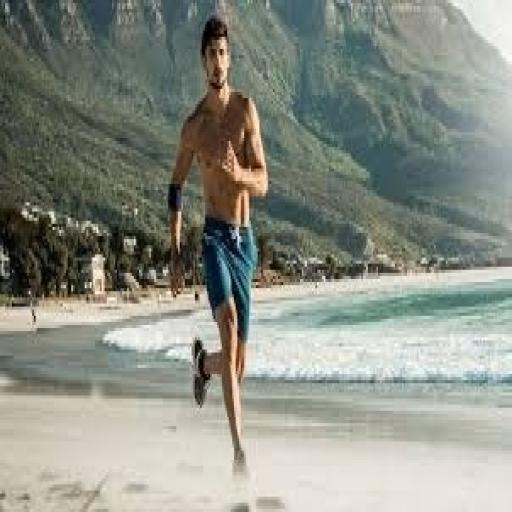running: (164, 12, 272, 478)
